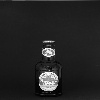beer: (31, 35, 66, 97)
